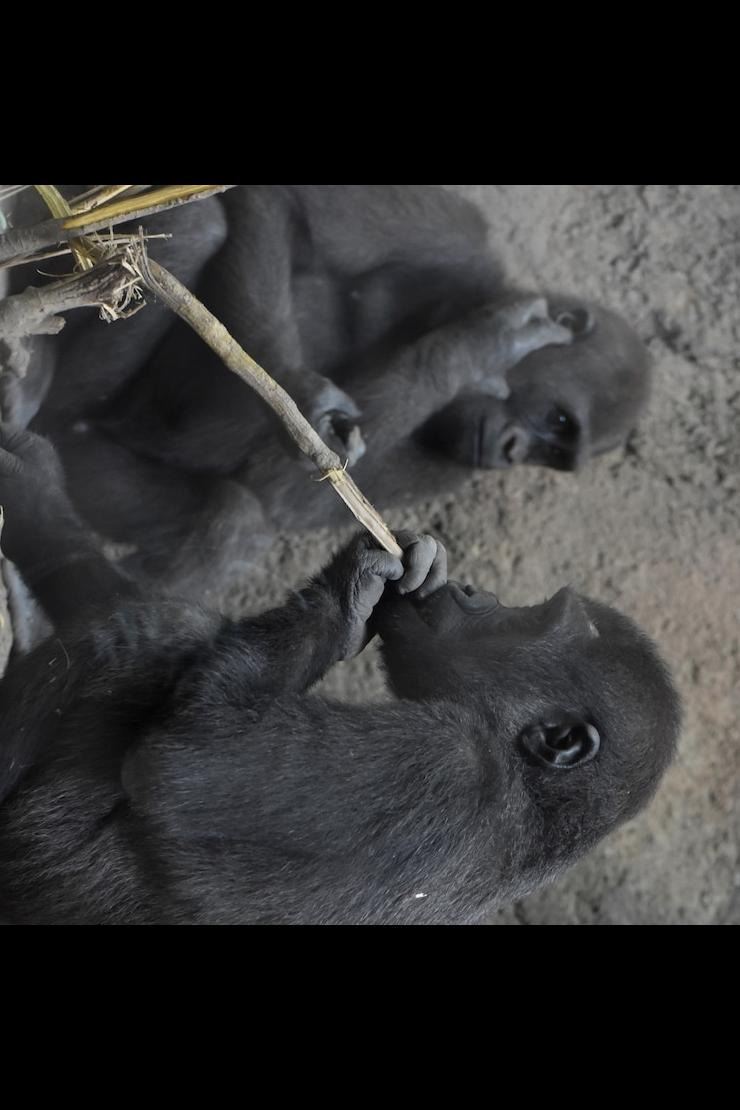gorille_Autres: (0, 185, 701, 925)
